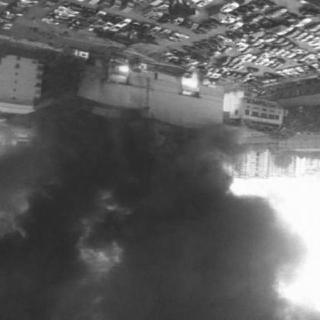Fire: (220, 85, 246, 118), (176, 71, 206, 99), (106, 60, 133, 86)
Smoke: (5, 116, 311, 318)
